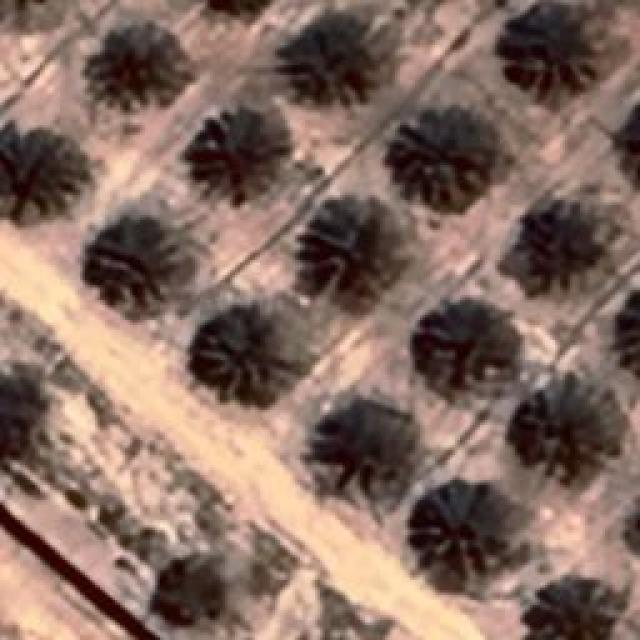PalmTree: (412, 485, 520, 583), (392, 108, 497, 208), (503, 0, 603, 102), (518, 374, 614, 478), (195, 308, 300, 402), (300, 205, 396, 298), (414, 294, 508, 388), (320, 401, 416, 488), (519, 202, 609, 292), (300, 21, 380, 111), (1, 121, 76, 216), (98, 26, 194, 99), (98, 220, 178, 305), (194, 115, 274, 193), (528, 575, 614, 640), (608, 278, 640, 380), (608, 92, 640, 193)
